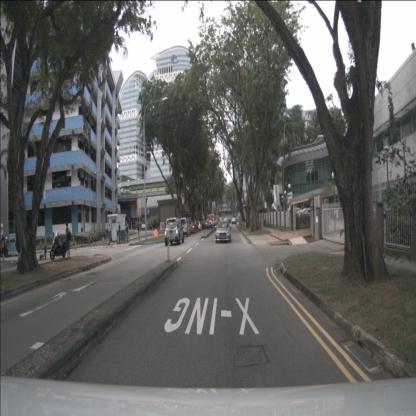human-pedestrian-adult: (64, 223, 72, 260), (118, 221, 123, 245), (136, 220, 141, 241), (125, 221, 129, 244), (156, 219, 160, 235)
movable_object-trafficcone: (74, 241, 77, 250)
vehicle-bus-rigid: (208, 213, 215, 228)
vehicle-car: (165, 222, 184, 246), (298, 208, 321, 224), (215, 221, 231, 243), (166, 218, 181, 240), (286, 208, 307, 223), (178, 218, 190, 237), (188, 221, 198, 234), (205, 218, 214, 229), (196, 221, 204, 230), (227, 216, 231, 224), (232, 217, 236, 224)
vehicle-motorcycle: (50, 230, 67, 260), (0, 243, 9, 258)
